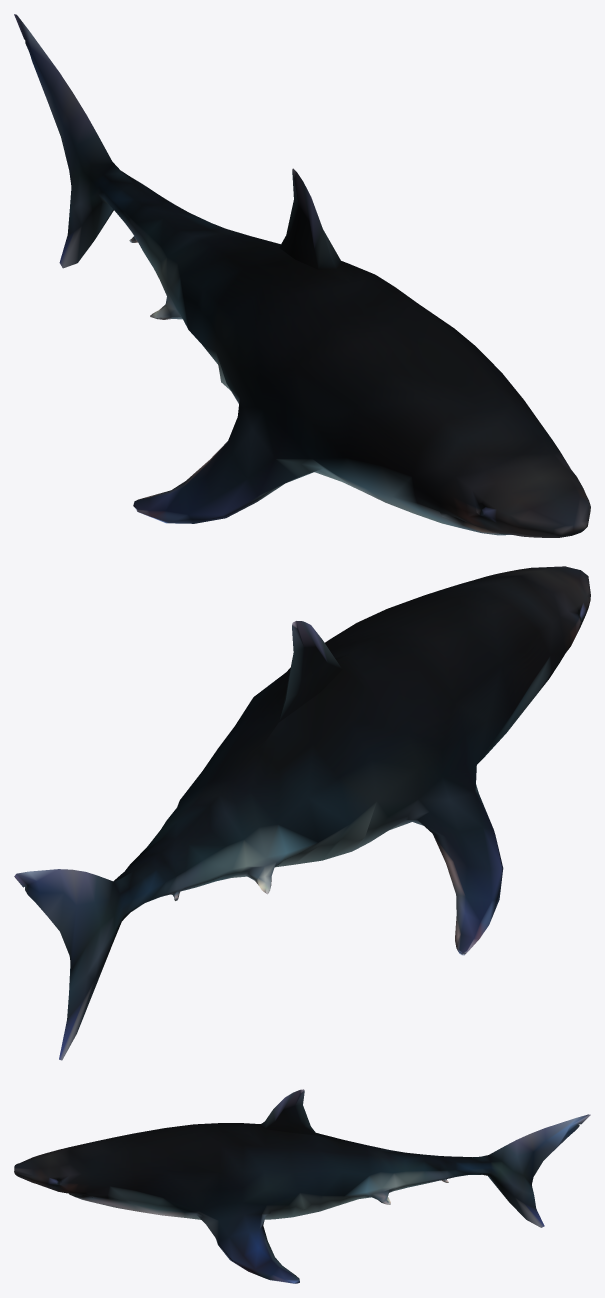
Rendered from shark01.fbx.
The picture shows the model from 3 angles, top to bottom: view 1: azimuth 30°, elevation 25°; view 2: azimuth 150°, elevation 25°; view 3: azimuth 270°, elevation 25°; orthographic projection. The views are drawn at different scales.
Parts seen in each view (by area): view 1: GEO_OUT; view 2: GEO_OUT; view 3: GEO_OUT.
Boxes of the visible parts, bbox=[...] form: GEO_OUT: bbox=[14, 14, 590, 537]; GEO_OUT: bbox=[14, 566, 590, 1060]; GEO_OUT: bbox=[14, 1089, 590, 1283].
Size of the model in its own units: 146 by 126 by 430.
